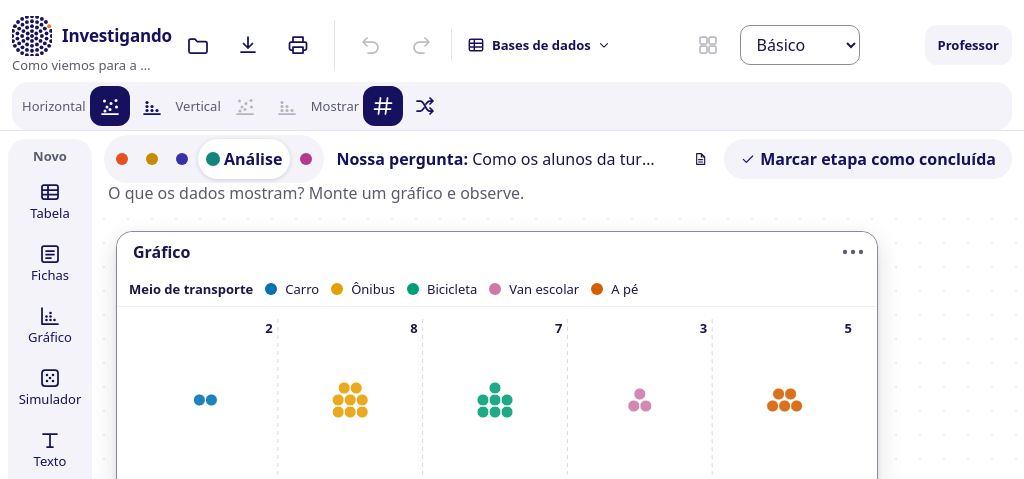
Test case: pergunta-guia por perfil › iniciais e finais usam textos diferentes
Expected: the heading "O que os dados mostram? Monte um gráfico e observe." is shown, [108, 183, 524, 203]
Select "Completo" in the dropdown named "Perfil" at (800, 45), box [740, 25, 860, 65]
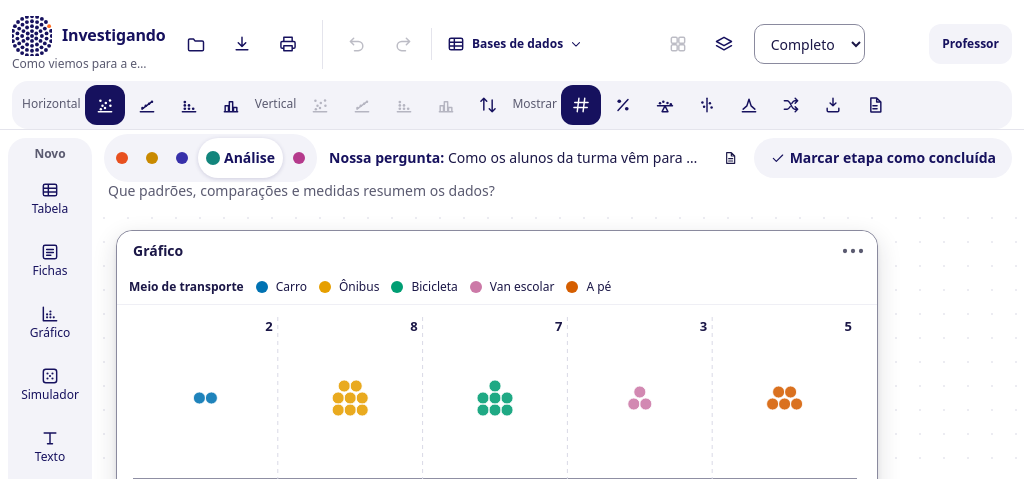
Expected: the heading "Que padrões, comparações e medidas resumem os dados?" is shown, [108, 182, 495, 202]
